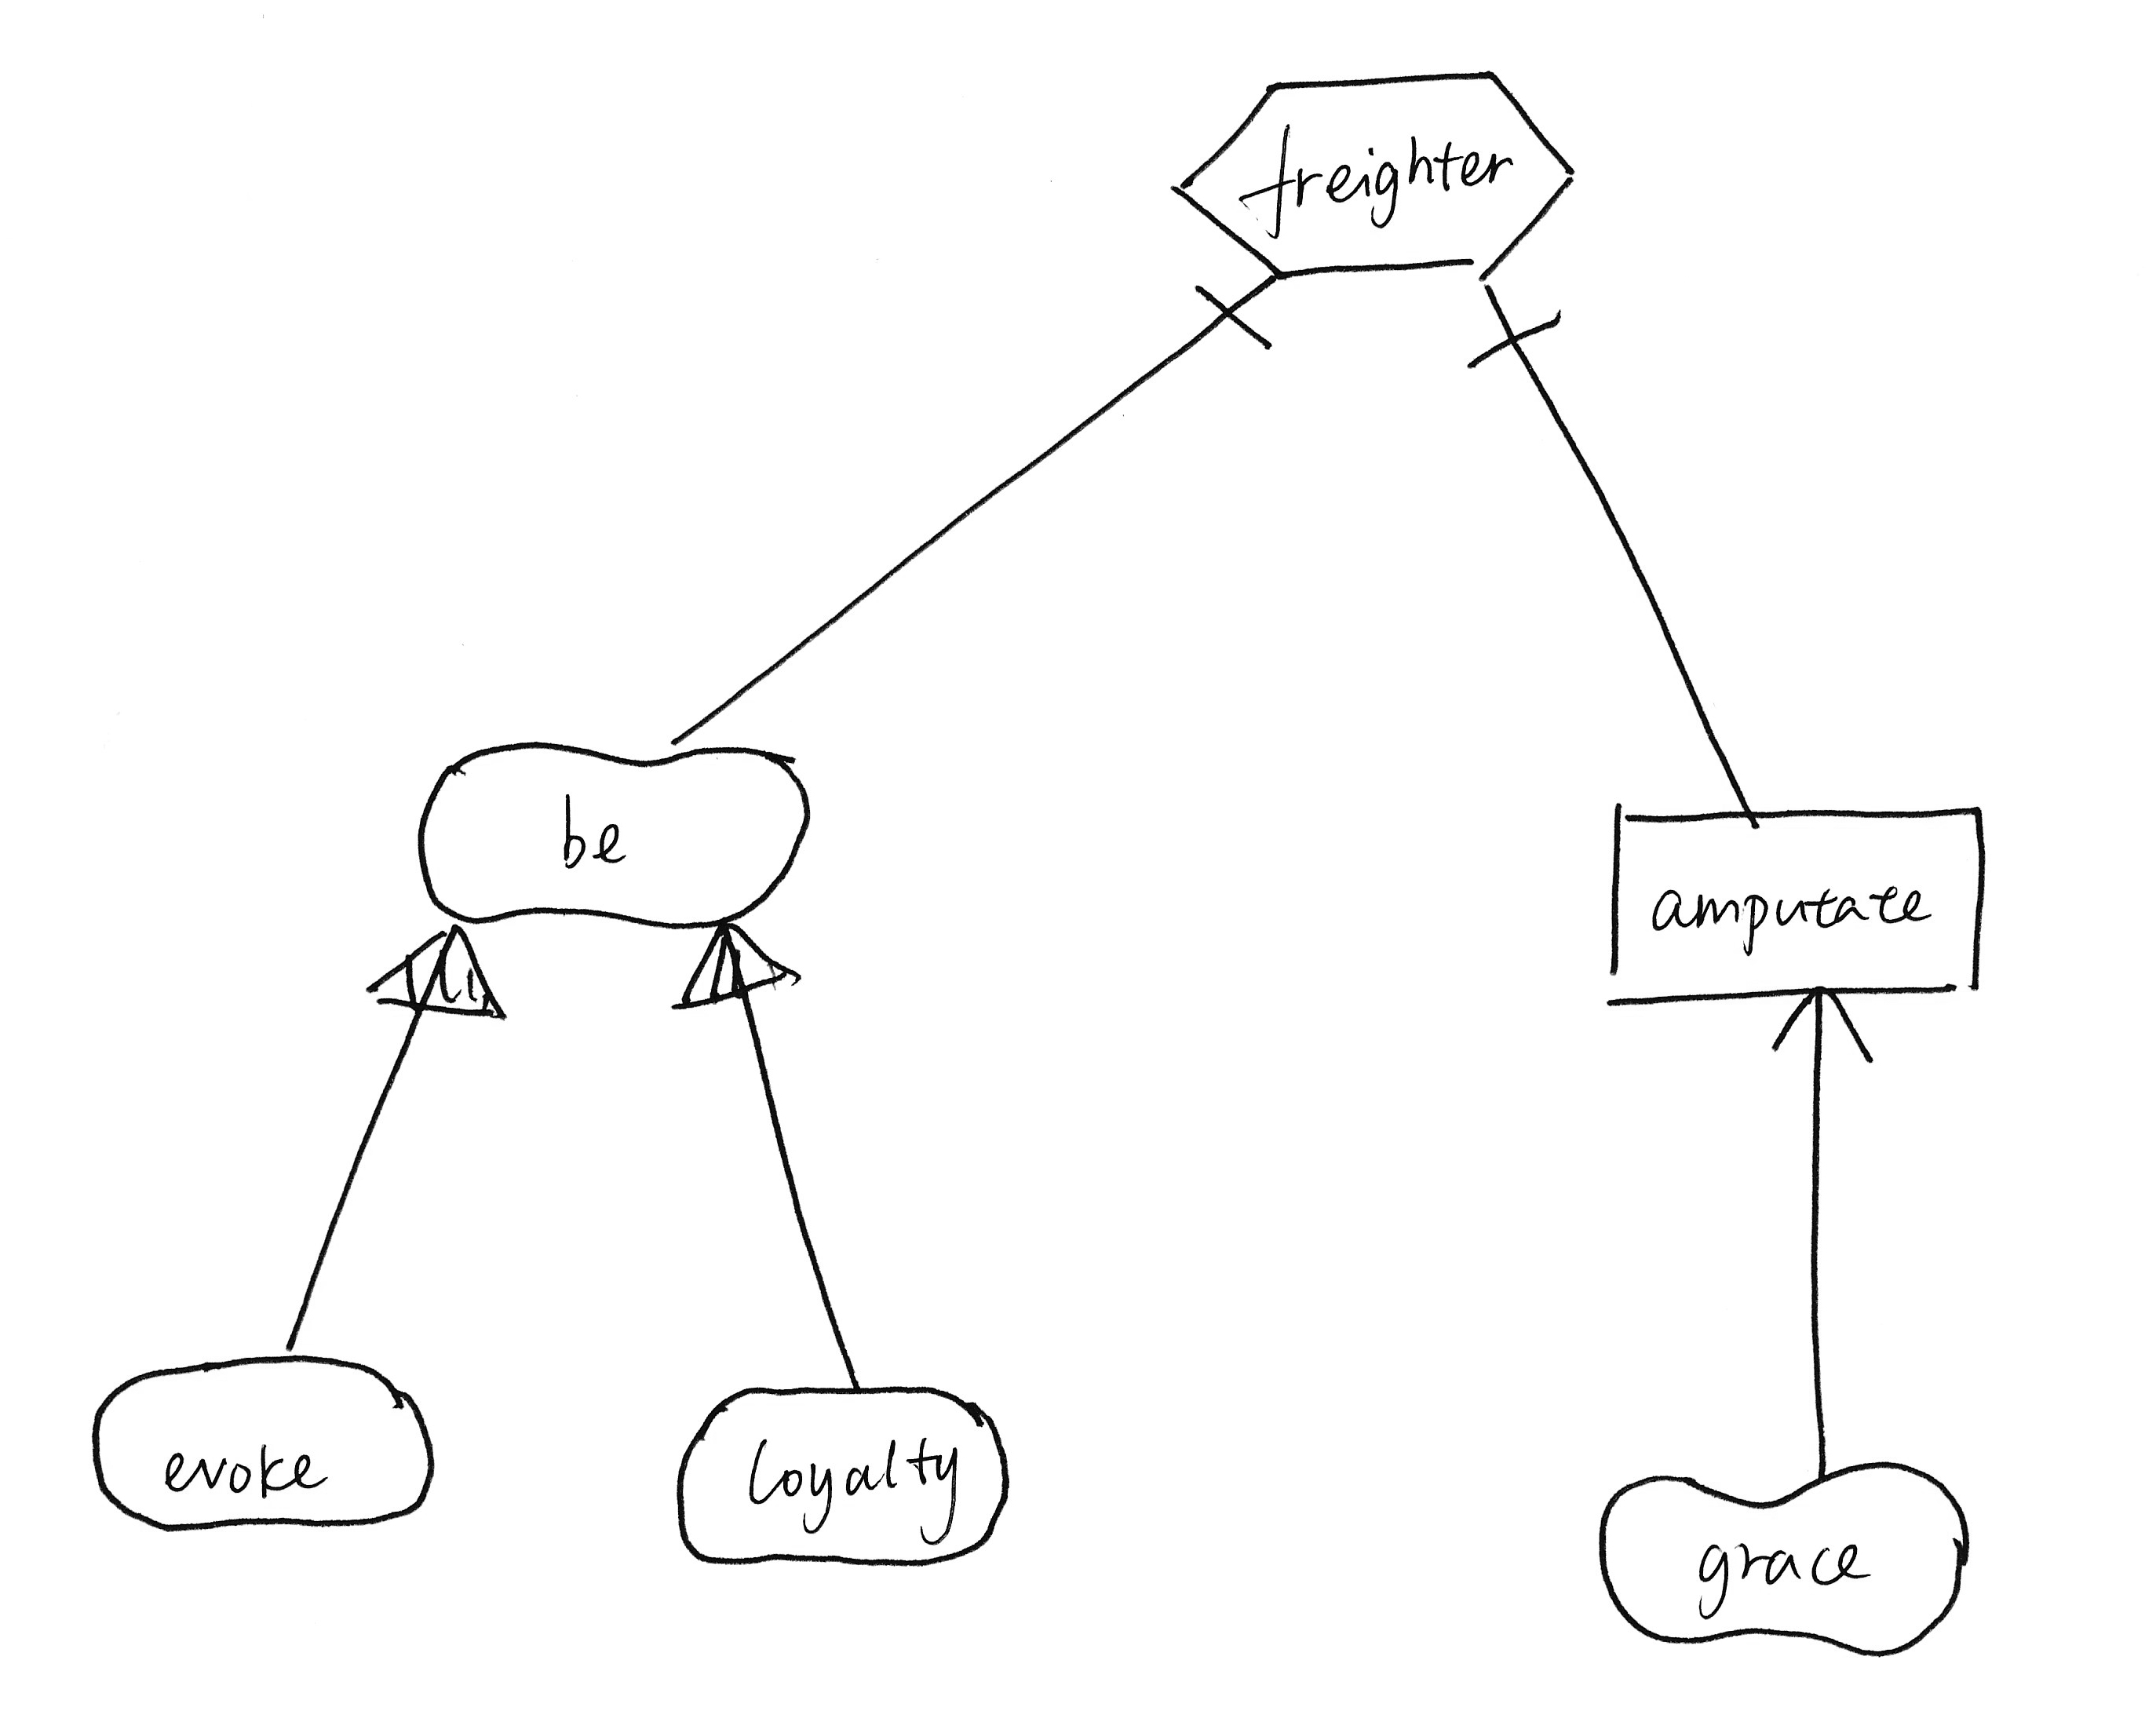and: (1180, 265, 1291, 377), (1456, 301, 1578, 389)
arrow: (1762, 978, 1889, 1075)
goal: (663, 1370, 1024, 1579), (78, 1339, 449, 1540)
or: (354, 914, 525, 1033), (654, 911, 814, 1031)
quality: (1583, 1447, 1988, 1669), (401, 727, 821, 939)
resource: (1585, 789, 2007, 1017)
task: (1151, 50, 1592, 294)
